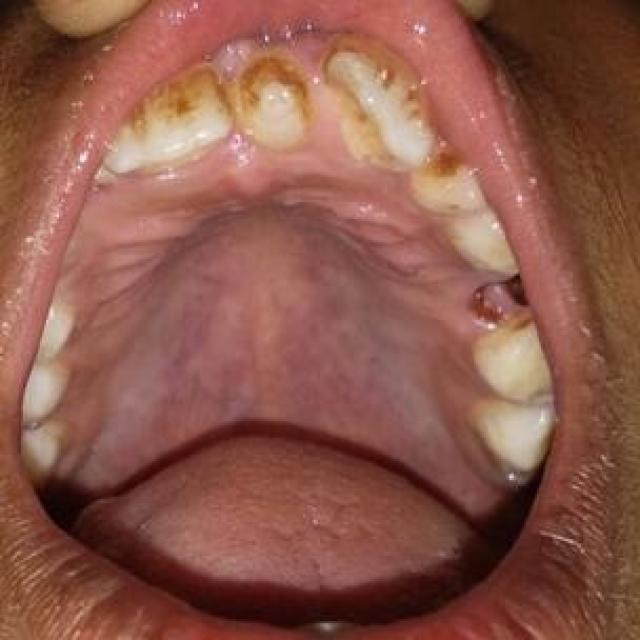processing_area: (45, 79, 529, 518)
